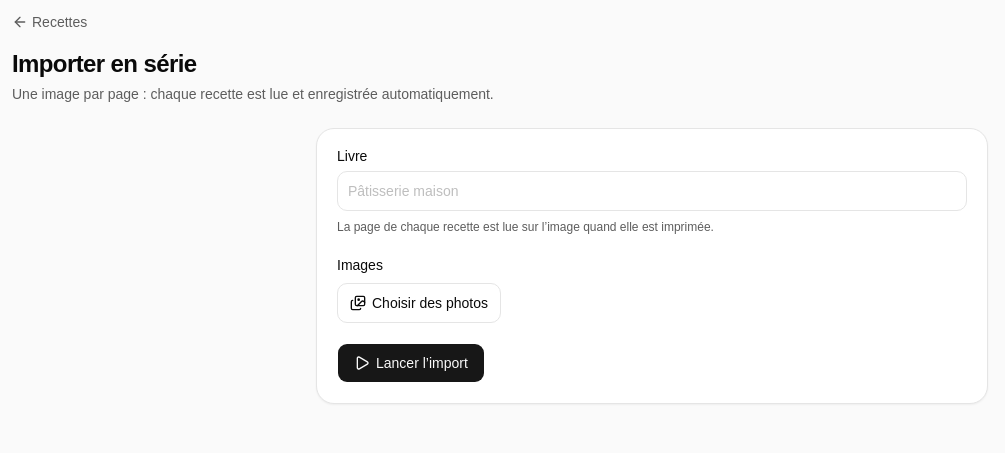
Test: RecipeBatchImportPage › exige un livre et au moins une image
This screenshot has width=1005, height=453.
What coordinates should you click on to do the following:
click the button "Lancer l’import"
I would click on:
 (411, 363)
Its box is 337,343 -> 485,383.
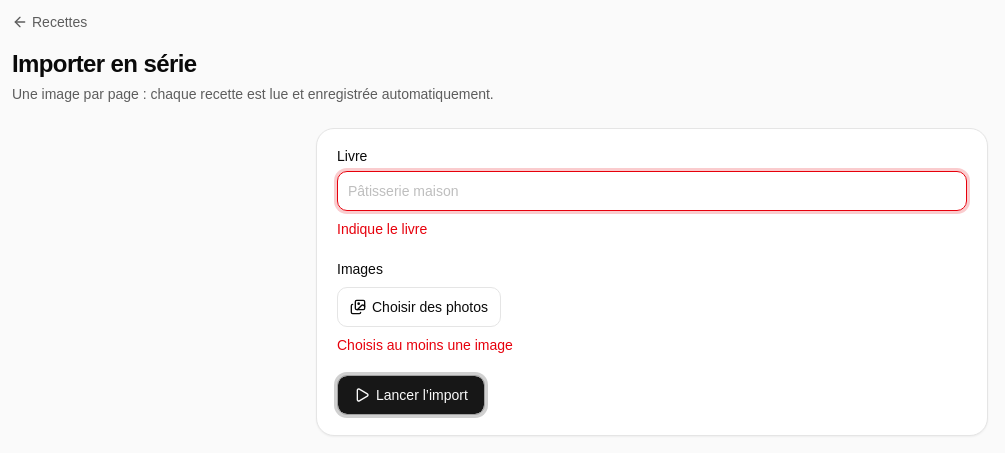
Result: the text "Indique le livre" is shown at 337,221 -> 427,237
Result: the text "Choisis au moins une image" is shown at 337,337 -> 513,353
